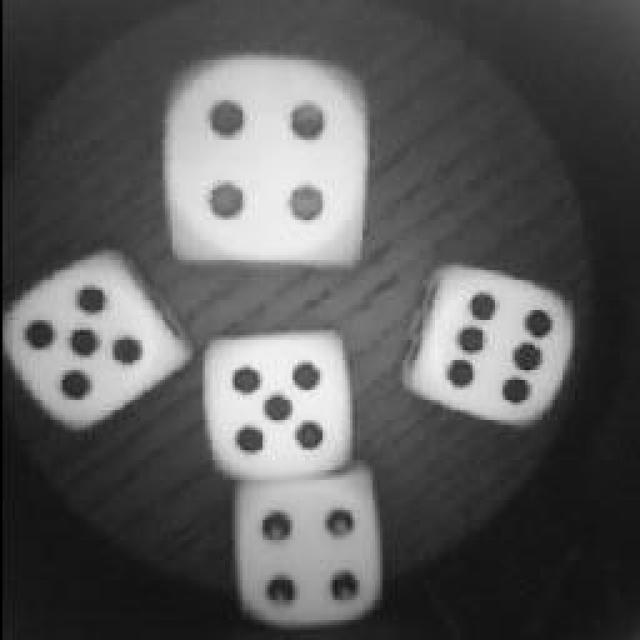dice_4: (152, 45, 382, 275), (218, 465, 392, 627)
dice_5: (0, 255, 188, 427), (192, 320, 360, 480)
dice_6: (405, 252, 573, 428)
